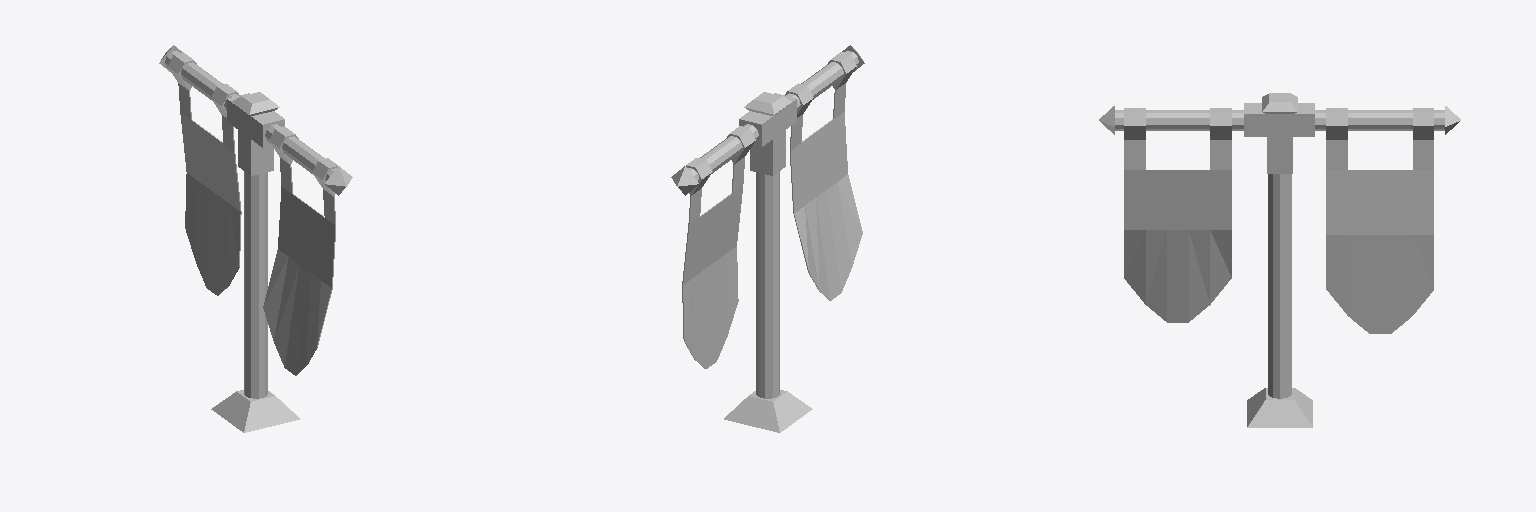
File: FlagRed4.obj
3 renders of one model, left to right at view 1: azimuth 30°, elevation 25°; view 2: azimuth 150°, elevation 25°; view 3: azimuth 270°, elevation 25°, orthographic.
Visible parts, largest first — view 1: polySurface2; view 2: polySurface2; view 3: polySurface2.
Part boxes in pixels (left/top/right/bottom): polySurface2: left=159, top=45, right=352, bottom=432; polySurface2: left=671, top=45, right=864, bottom=432; polySurface2: left=1099, top=93, right=1460, bottom=427.
Bounding box in the file's own units: 1 × 5.29 × 5.51.